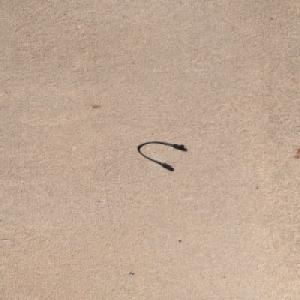Wire: (136, 141, 185, 170)
